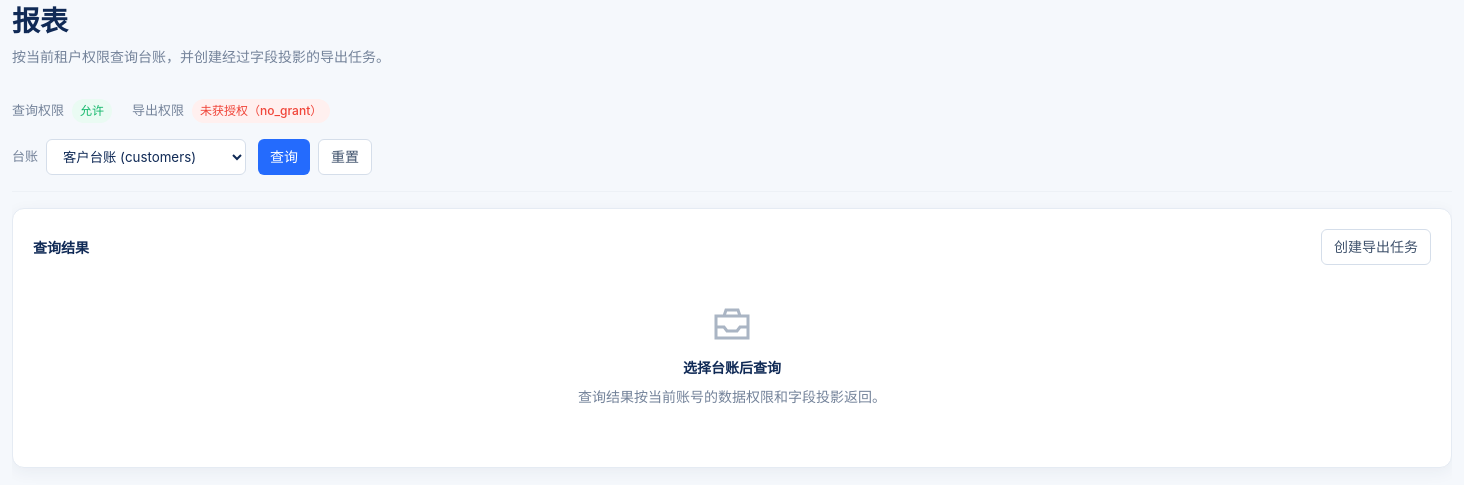
report page visual standard (R15) › shows an empty result and a created export task as secondary information
Submit the form, box [12,139,1452,192]
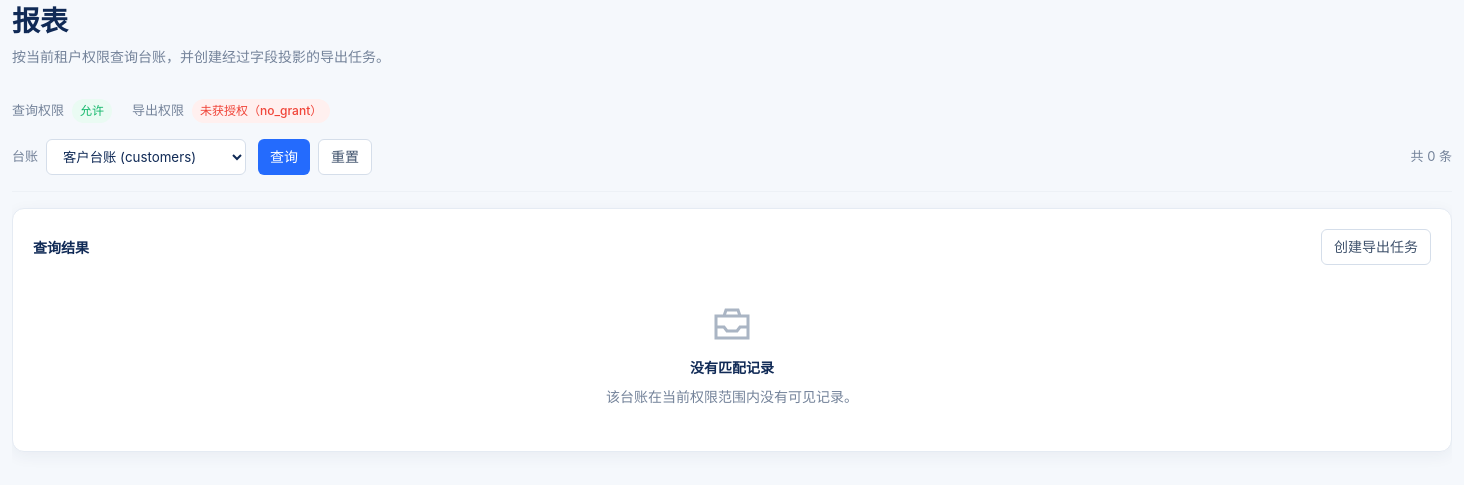
Now the message with test id "report-empty" shows "没有匹配记录", box [690,359,774,376]
Click the button with test id "g2-report-export" at (1376, 247), box [1321,229,1431,265]
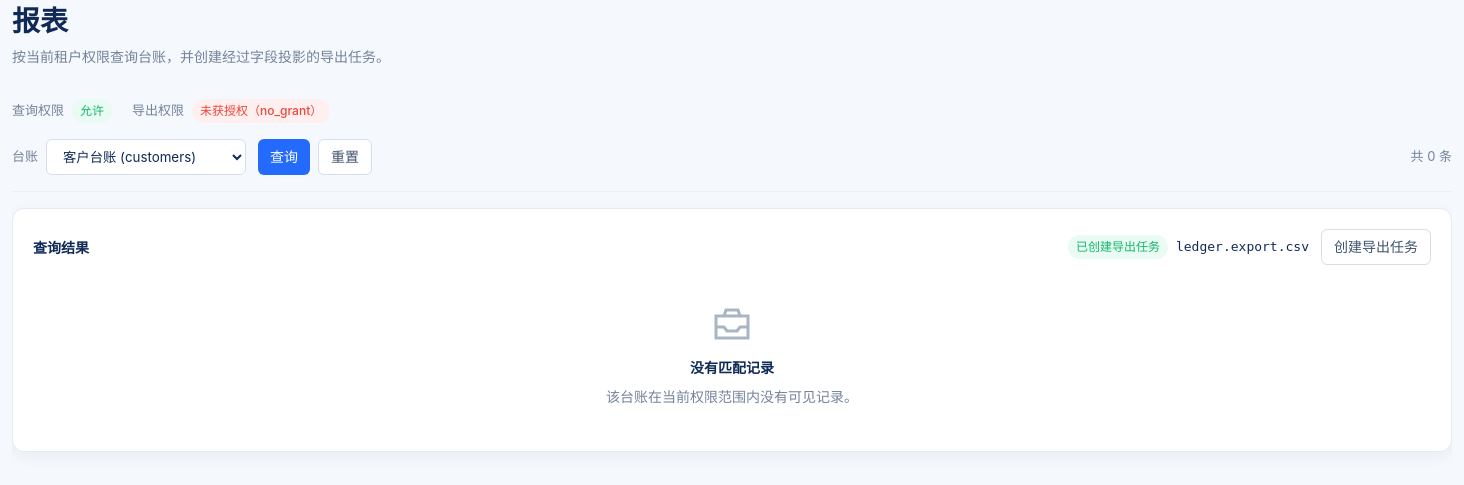
Now the element with test id "g2-report-export-result" shows "已创建导出任务", box [1076,239,1160,254]
Now the element with test id "g2-report-export-result" shows "ledger.export.csv", box [1176,239,1309,254]
